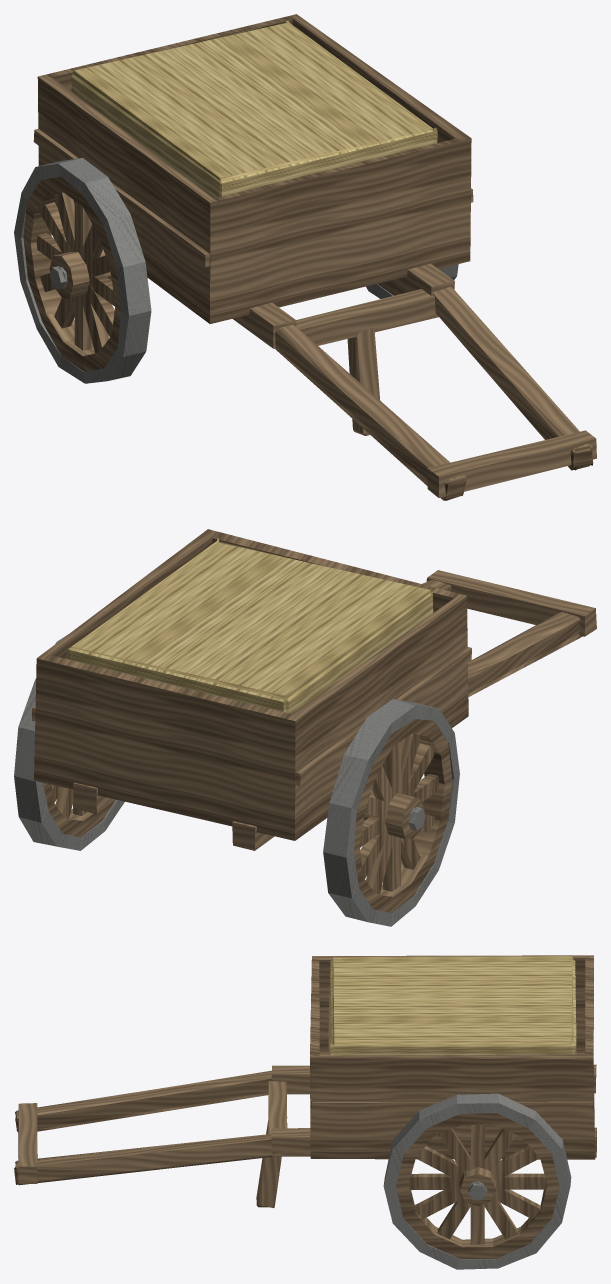
Rendered from two_wheel_handcart.glb.
3 renders of one model, top to bottom at view 1: azimuth 30°, elevation 25°; view 2: azimuth 150°, elevation 25°; view 3: azimuth 270°, elevation 25°, orthographic. The views are drawn at different scales.
Parts seen in each view (by area): view 1: TwoWheelHandcart; view 2: TwoWheelHandcart; view 3: TwoWheelHandcart.
Boxes of the visible parts, box(x1,y1,x2,y2) form: TwoWheelHandcart: box(14, 14, 596, 500); TwoWheelHandcart: box(14, 529, 596, 926); TwoWheelHandcart: box(14, 955, 596, 1269).
Bounding box in the file's own units: 1.55 × 1.02 × 2.61.
3 materials, 3 textured.
